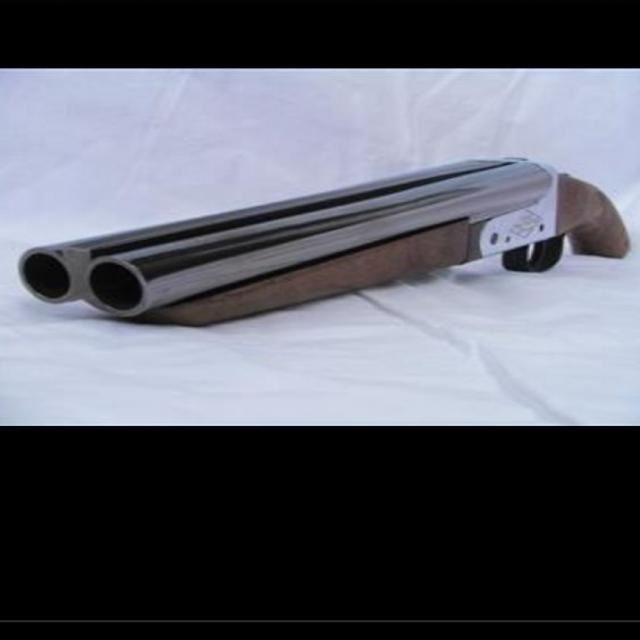shotgun: (30, 160, 640, 344)
